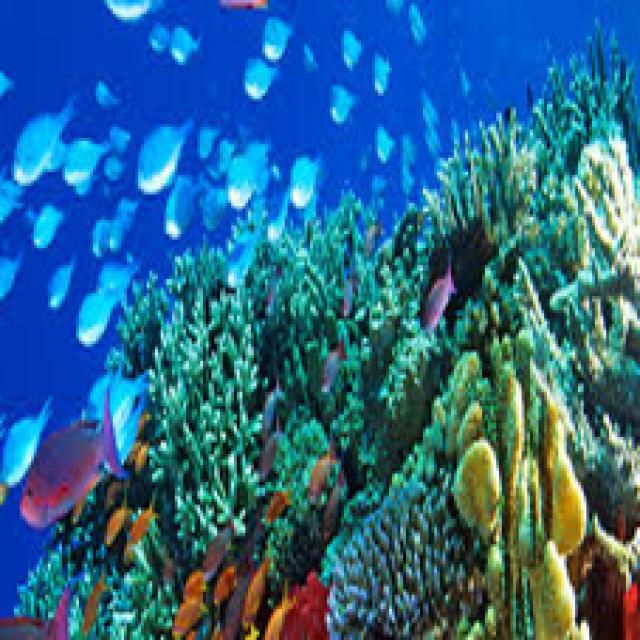Healthy: (449, 342, 585, 635), (531, 29, 638, 308), (156, 294, 260, 511), (334, 486, 480, 638), (252, 238, 370, 396), (424, 111, 531, 241), (111, 246, 224, 368)
